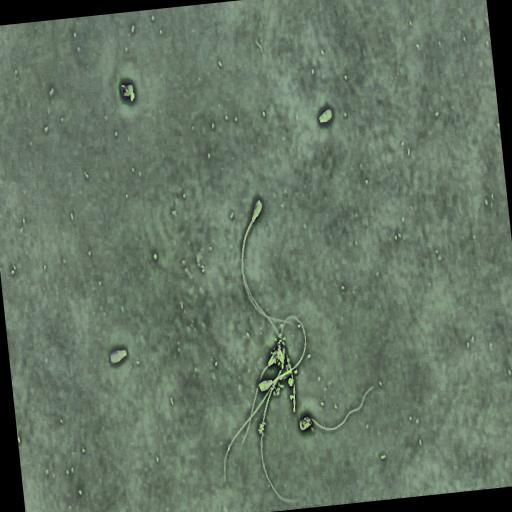dirt-particles: (117, 80, 139, 106), (304, 418, 312, 427)
loose-head: (108, 346, 129, 367), (317, 104, 333, 126)
normal: (240, 194, 282, 322), (297, 379, 377, 438), (259, 316, 306, 392)
